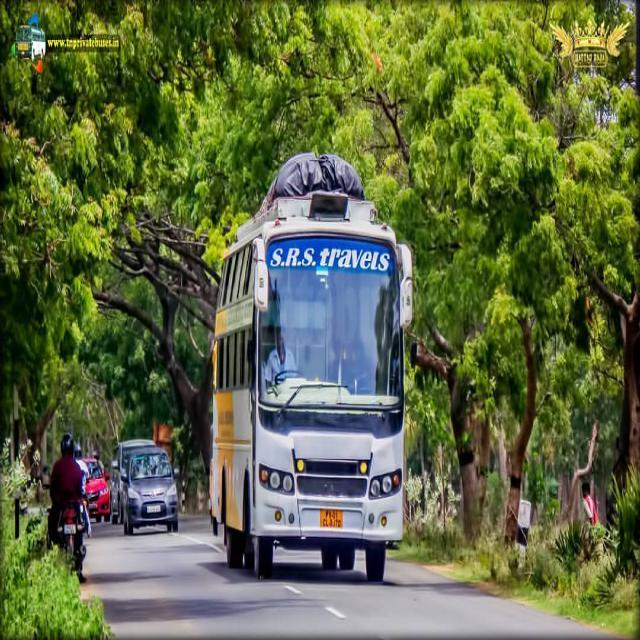Bus: (209, 186, 416, 581)
Car: (121, 445, 182, 541)
